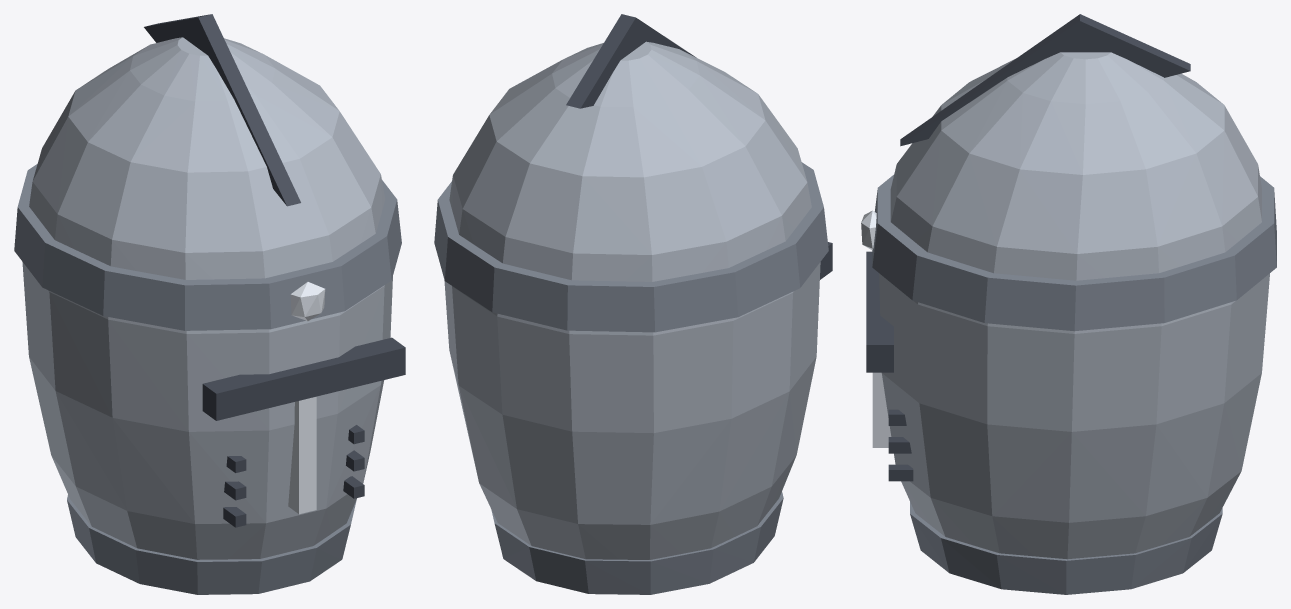
File: drop_steel_fullhelm.glb
The picture shows the model from 3 angles, left to right: view 1: azimuth 30°, elevation 25°; view 2: azimuth 150°, elevation 25°; view 3: azimuth 270°, elevation 25°; orthographic projection.
Visible parts, largest first — view 1: drop_steel_fullhelm; view 2: drop_steel_fullhelm; view 3: drop_steel_fullhelm.
Boxes of the visible parts, x1,y1,x2,y2 form: drop_steel_fullhelm: [14, 14, 405, 594]; drop_steel_fullhelm: [434, 14, 832, 594]; drop_steel_fullhelm: [861, 14, 1276, 594].
Size of the model in its own units: 0.28 by 0.415 by 0.3006.
